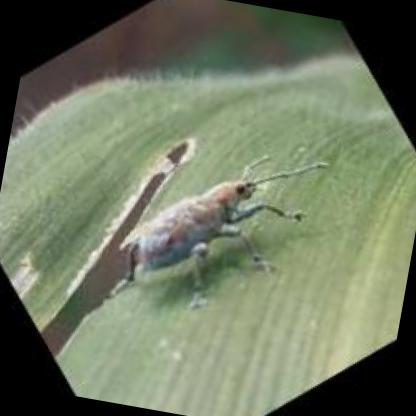ash weevil: (128, 155, 326, 295)
